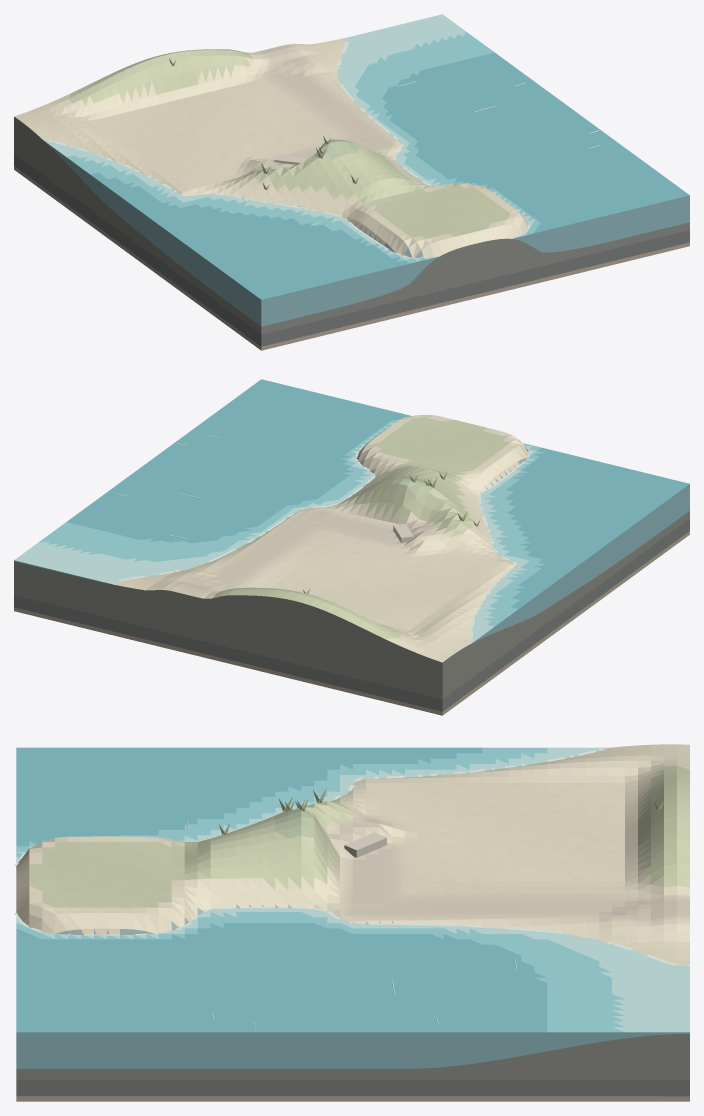
3 renders of one model, top to bottom at view 1: azimuth 30°, elevation 25°; view 2: azimuth 150°, elevation 25°; view 3: azimuth 270°, elevation 25°, orthographic. The views are drawn at different scales.
Visible parts, largest first — view 1: proc_water, proc_ground, proc_skirt, proc_water_side, proc_foam; view 2: proc_water, proc_ground, proc_skirt, proc_water_side, proc_foam; view 3: proc_water, proc_ground, proc_skirt, proc_water_side, proc_foam, proc_steps.
Part boxes in pixels (box(x1,y1,x2,y2)): proc_water: box(44, 14, 689, 299); proc_ground: box(14, 38, 528, 257); proc_skirt: box(14, 117, 689, 350); proc_water_side: box(44, 141, 689, 326); proc_foam: box(48, 38, 530, 257); proc_water: box(14, 379, 689, 642); proc_ground: box(114, 415, 528, 662); proc_skirt: box(14, 511, 689, 715); proc_water_side: box(14, 484, 689, 642); proc_foam: box(113, 433, 530, 640); proc_water: box(16, 747, 689, 1032); proc_ground: box(16, 744, 689, 965); proc_skirt: box(16, 1034, 689, 1101); proc_water_side: box(16, 1032, 689, 1068); proc_foam: box(14, 748, 689, 966); proc_steps: box(344, 832, 386, 857).
Bounding box in the file's own units: 8 × 1.71 × 8.03.
